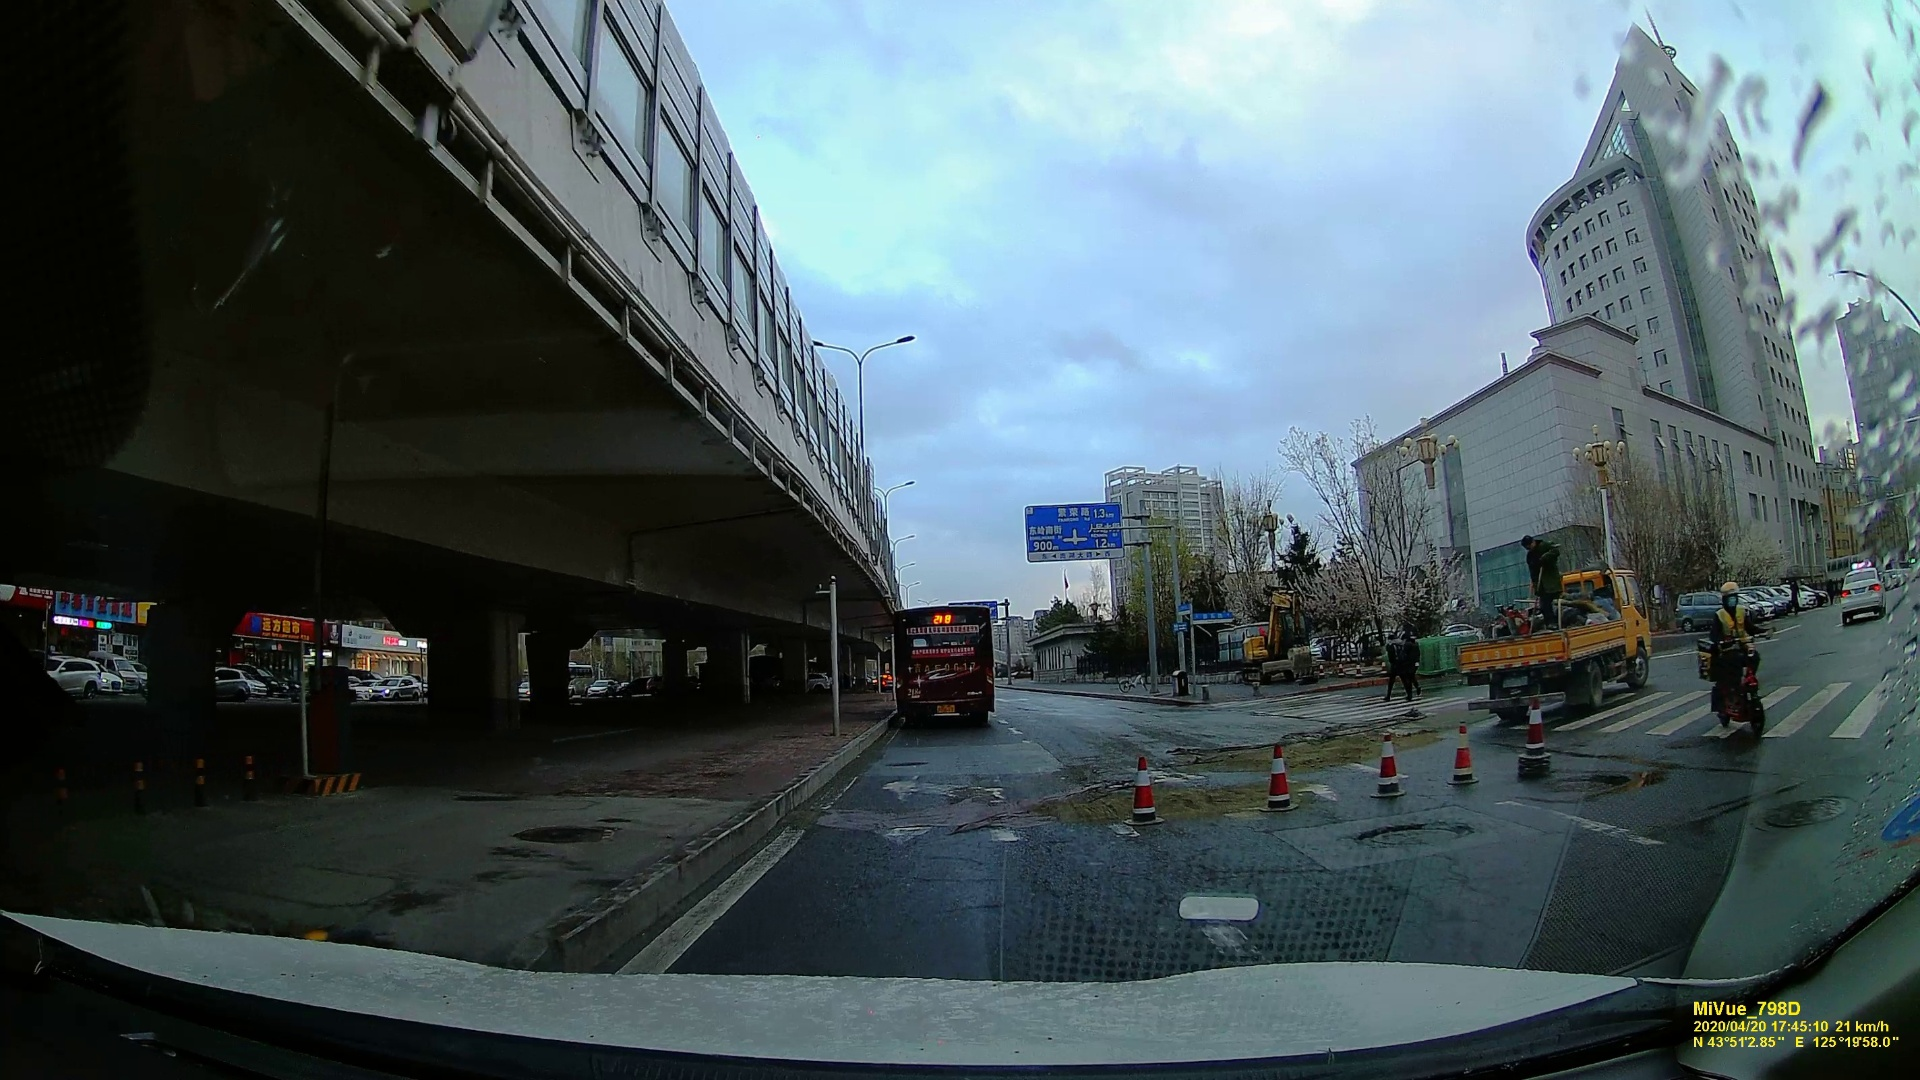person: (1699, 570, 1777, 744), (1381, 616, 1425, 704)
traffic_sign: (1022, 505, 1122, 563)
truck: (1456, 561, 1656, 721)
vehicle: (897, 603, 997, 729), (38, 652, 105, 696), (1838, 570, 1889, 621), (364, 676, 418, 698)
